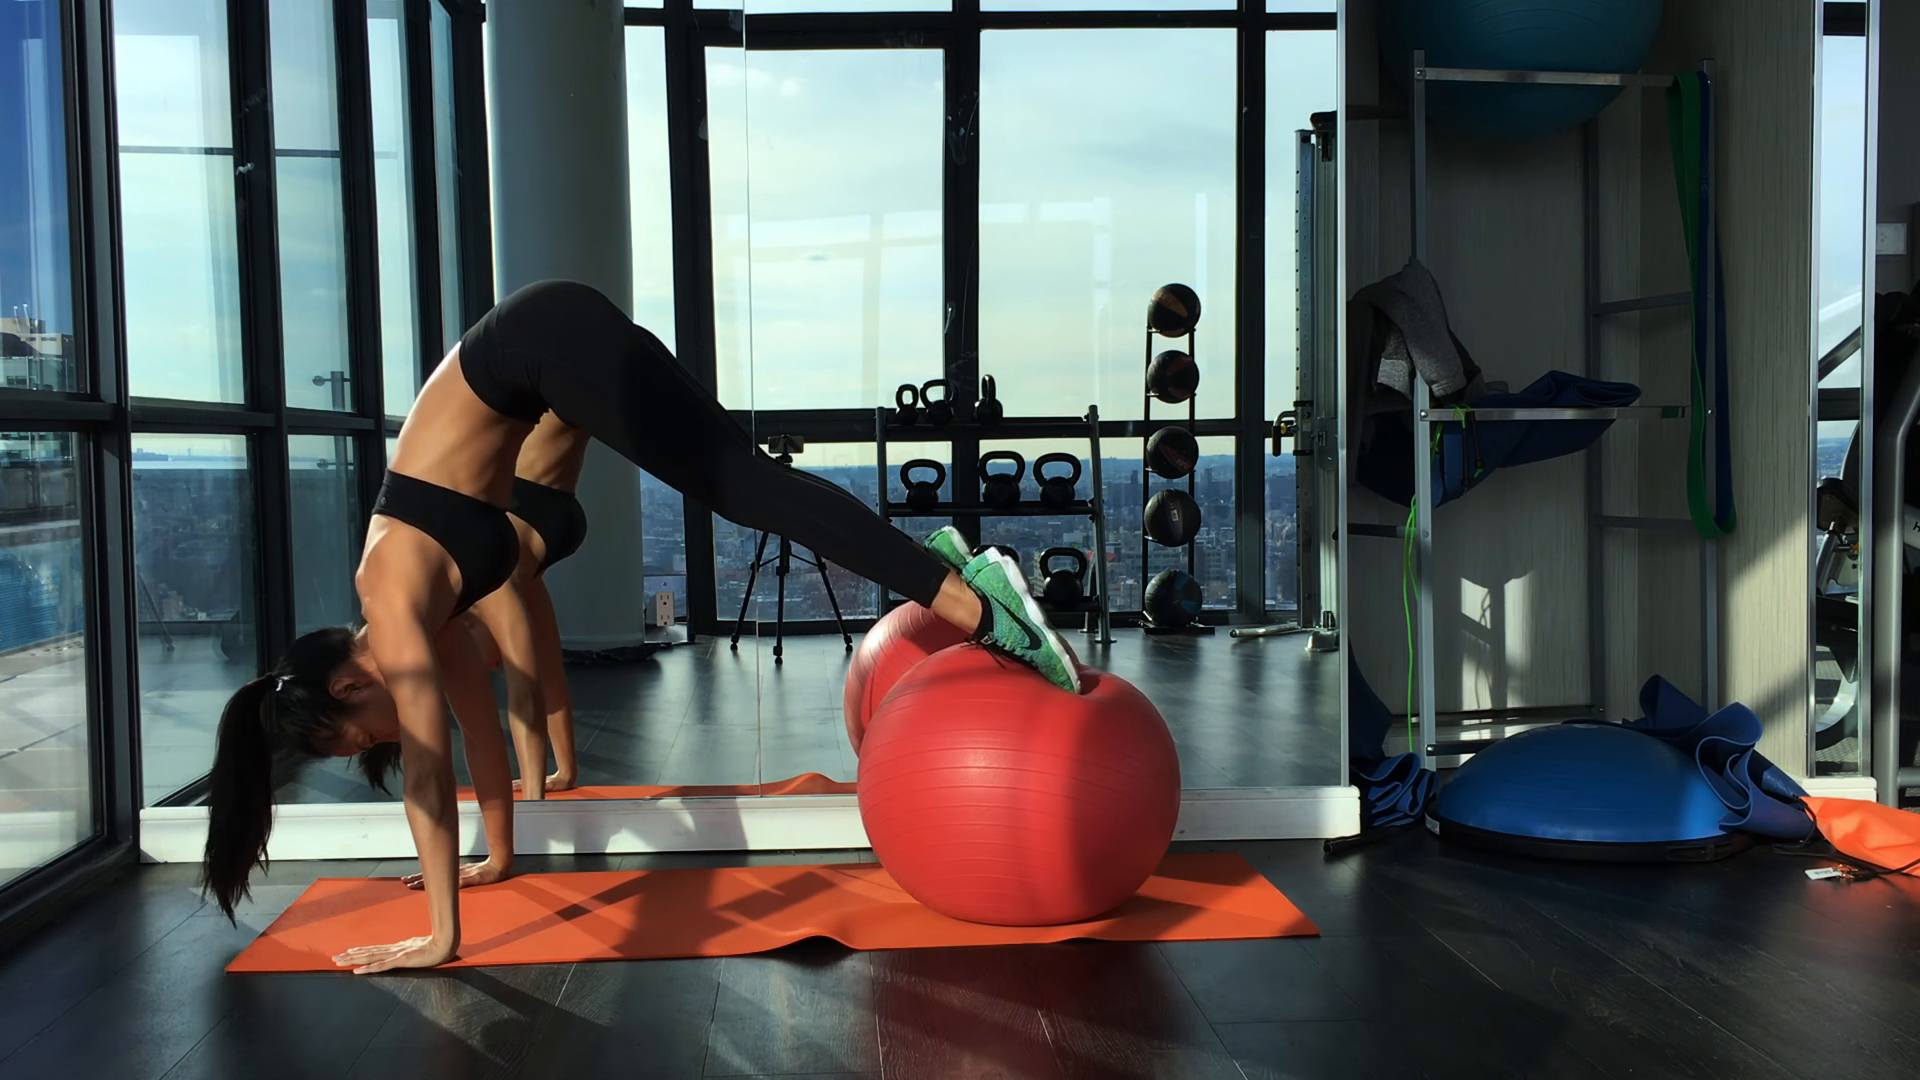yogaball: (851, 641, 1192, 949)
